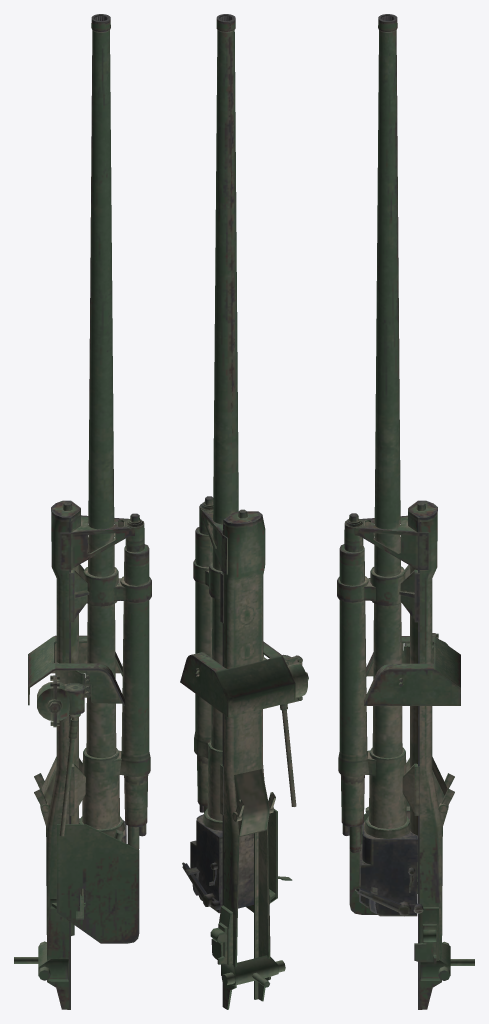
The model's file is Gun_01.glb.
The picture shows the model from 3 angles, left to right: view 1: azimuth 90°, elevation 25°; view 2: azimuth 210°, elevation 25°; view 3: azimuth 270°, elevation 25°; orthographic projection.
Visible parts, largest first — view 1: set_0_group_0; view 2: set_0_group_0; view 3: set_0_group_0.
Boxes of the visible parts, box(x1,y1,x2,y2) form: set_0_group_0: box(14, 14, 151, 1009); set_0_group_0: box(180, 14, 308, 1009); set_0_group_0: box(337, 14, 474, 1009).
Bounding box in the file's own units: 0.4833 × 4.79 × 0.6092.
Materials: 1 (1 with a texture image).
